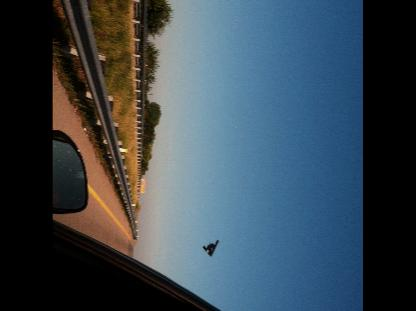B1: (204, 238, 220, 255)
